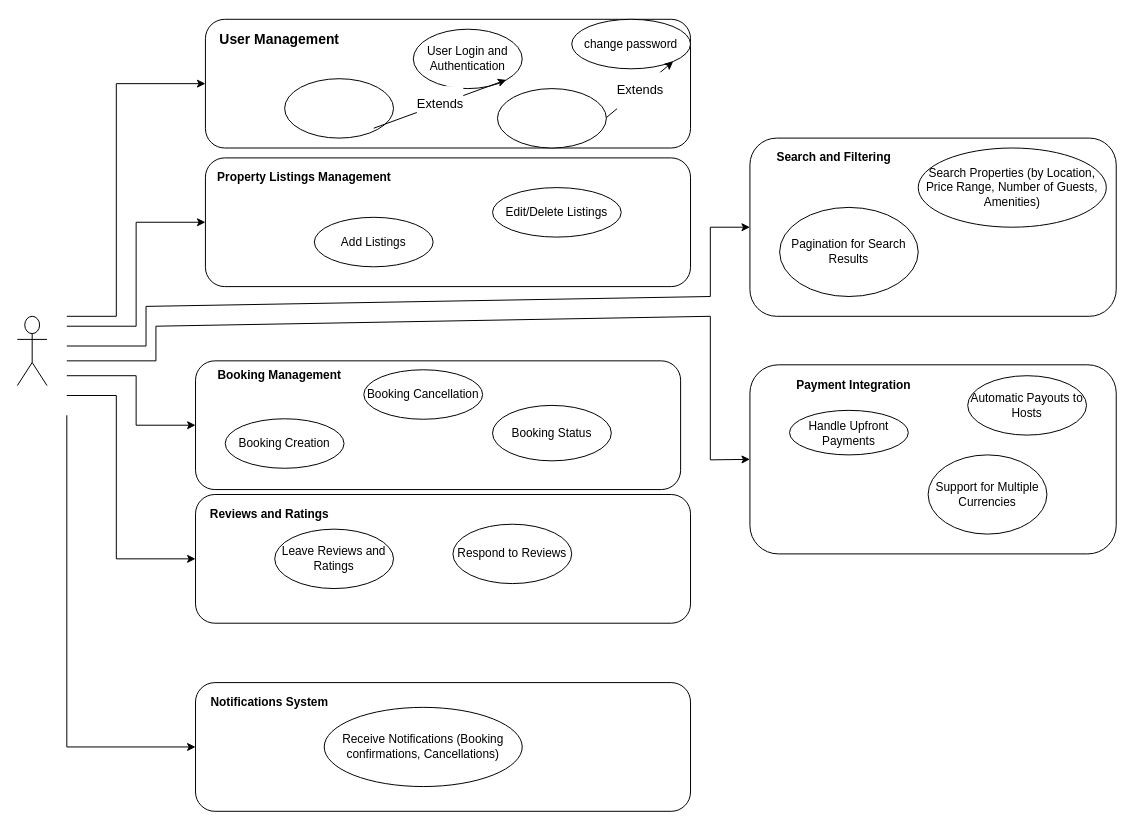
The diagram is 1134 pixels wide and 829 high, and some of its shapes have lost their labels. Each missing label, with the box of its shape:
Actor: (16, 315, 47, 386)
Profile Management: (496, 88, 606, 148)
User Registration: (284, 78, 394, 138)
